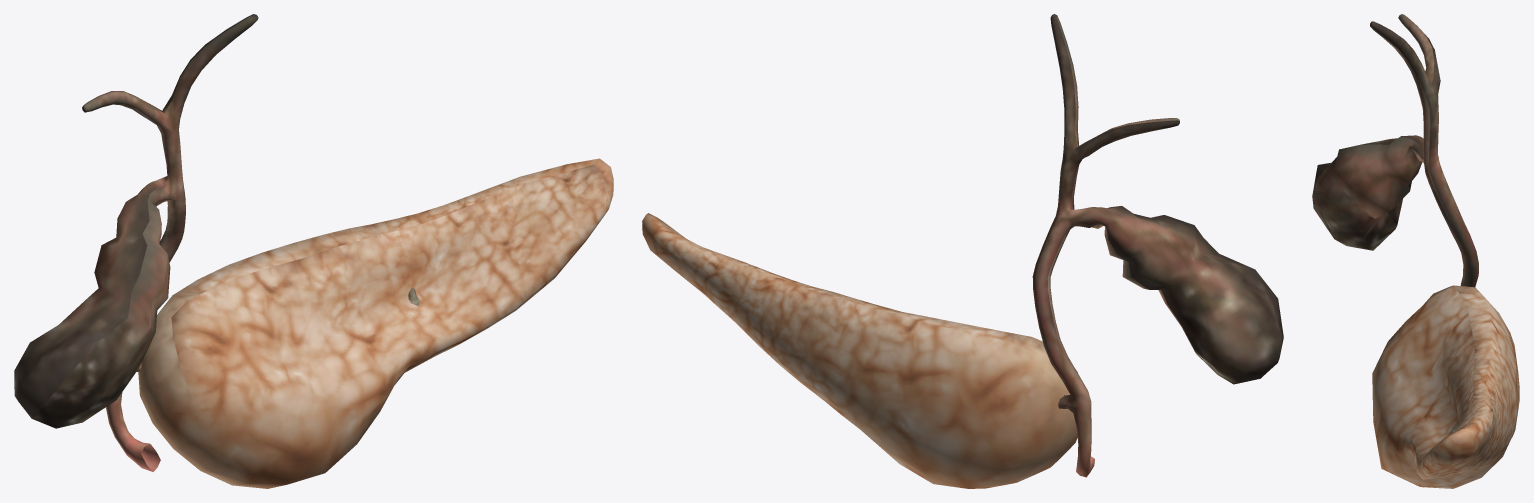
The model's file is 男性_内分泌系统_胰腺.fbx.
The picture shows the model from 3 angles, left to right: view 1: azimuth 30°, elevation 25°; view 2: azimuth 150°, elevation 25°; view 3: azimuth 270°, elevation 25°; orthographic projection. The views are drawn at different scales.
Visible parts, largest first — view 1: 男性_内分泌系统_胰腺; view 2: 男性_内分泌系统_胰腺; view 3: 男性_内分泌系统_胰腺.
Part boxes in pixels (x1=…): 男性_内分泌系统_胰腺: x1=14, y1=14, x2=613, y2=488; 男性_内分泌系统_胰腺: x1=642, y1=14, x2=1283, y2=488; 男性_内分泌系统_胰腺: x1=1312, y1=14, x2=1519, y2=488.
Size of the model in its own units: 14.3 by 10.62 by 4.61.
